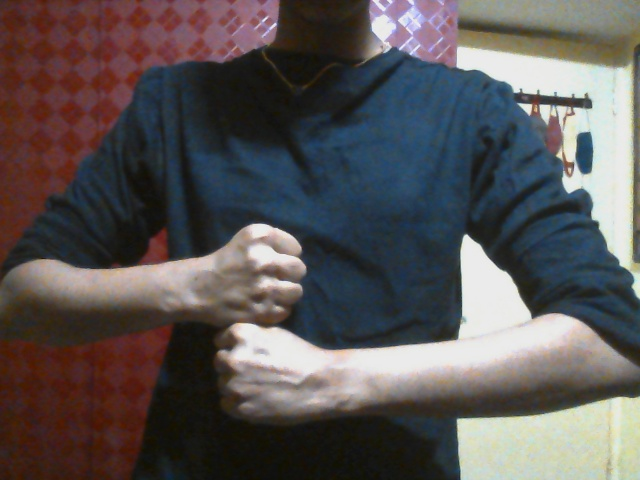G: (209, 220, 328, 428)
